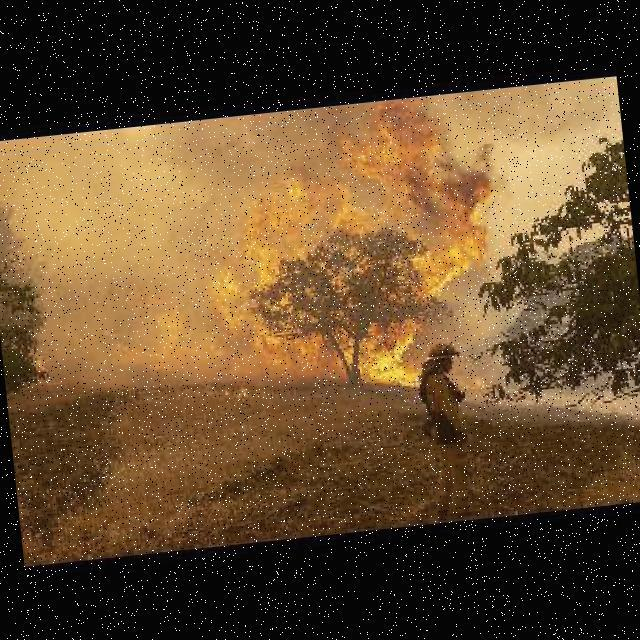Fire: (10, 95, 521, 424)
